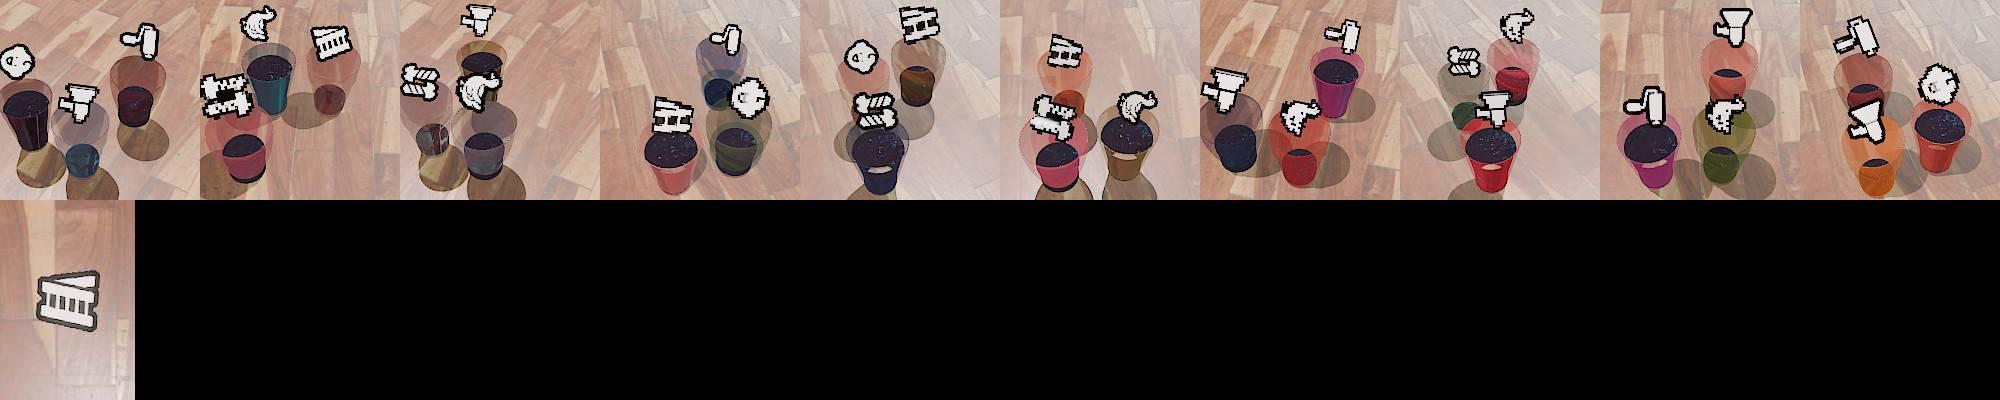icon: (34, 269, 102, 335), (199, 71, 255, 120), (1027, 93, 1079, 144), (1199, 68, 1246, 116), (1830, 15, 1879, 60), (1621, 84, 1663, 130), (851, 89, 899, 129), (455, 70, 500, 112), (651, 96, 696, 136), (1916, 64, 1959, 106), (730, 75, 770, 120), (56, 82, 99, 122), (1847, 97, 1885, 143), (1713, 6, 1754, 48), (310, 23, 352, 62), (1278, 98, 1321, 136), (898, 4, 941, 42), (120, 22, 159, 61), (1704, 96, 1745, 134), (401, 62, 440, 101), (239, 5, 277, 43), (1323, 19, 1361, 57), (1476, 89, 1513, 129), (1116, 89, 1158, 124), (1046, 32, 1084, 69), (0, 43, 36, 82), (1499, 8, 1534, 45), (844, 38, 880, 74), (1445, 45, 1482, 79), (460, 3, 496, 37), (708, 23, 741, 57)
